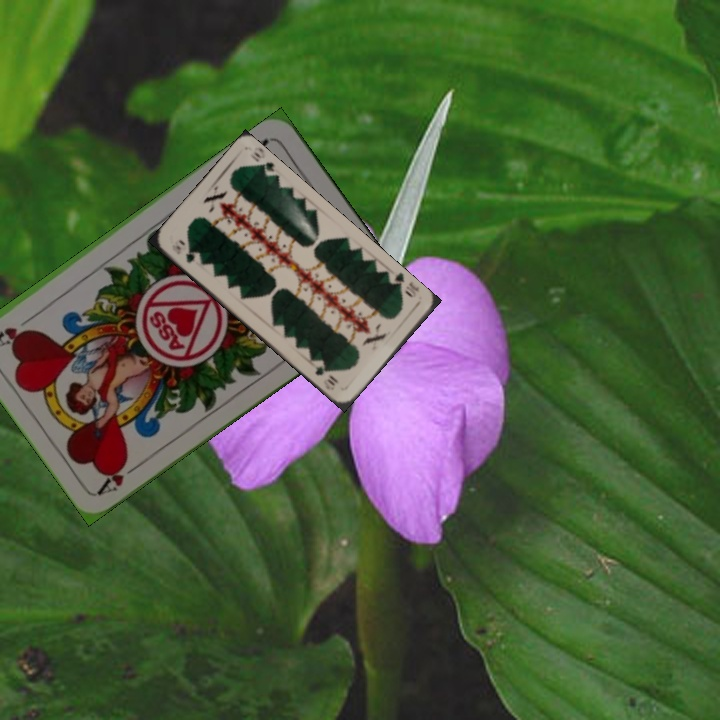G10: (384, 269, 422, 300), (172, 241, 197, 266)
HA: (94, 454, 147, 498)
